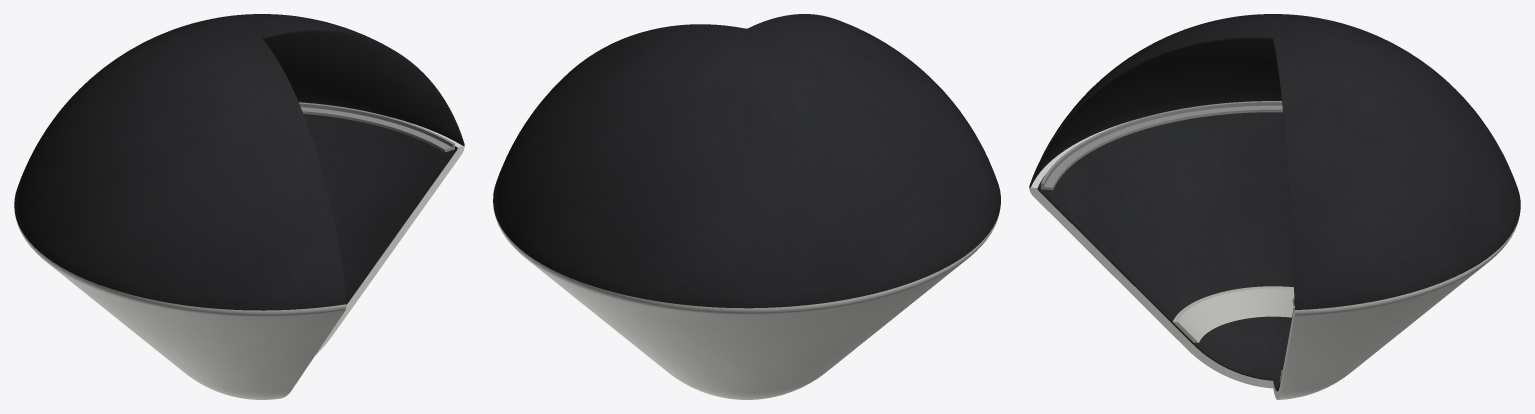
File: ds2-aeroshell.glb
3 views of the same model, side by side, from view 1: azimuth 30°, elevation 25°; view 2: azimuth 150°, elevation 25°; view 3: azimuth 270°, elevation 25° (orthographic). The views are drawn at different scales.
Visible parts, largest first — view 1: AFTSHELL_SiC, HEATSHIELD_SIRCA_SIRCA, HEATSHIELD_SIC_SHELL_SiC, AEROSHELL_JOINT_ring; view 2: AFTSHELL_SiC, HEATSHIELD_SIRCA_SIRCA; view 3: AFTSHELL_SiC, HEATSHIELD_SIC_SHELL_SiC, HEATSHIELD_SIRCA_SIRCA, PROBE_SEAT_ring, AEROSHELL_JOINT_ring.
Part boxes in pixels (x1,y1,x2,y2): AFTSHELL_SiC: [14, 14, 464, 310]; HEATSHIELD_SIRCA_SIRCA: [15, 118, 464, 399]; HEATSHIELD_SIC_SHELL_SiC: [303, 114, 457, 304]; AEROSHELL_JOINT_ring: [299, 102, 454, 152]; AFTSHELL_SiC: [493, 14, 1000, 308]; HEATSHIELD_SIRCA_SIRCA: [493, 209, 1000, 399]; AFTSHELL_SiC: [1029, 14, 1520, 309]; HEATSHIELD_SIC_SHELL_SiC: [1037, 112, 1294, 391]; HEATSHIELD_SIRCA_SIRCA: [1029, 119, 1519, 399]; PROBE_SEAT_ring: [1173, 286, 1294, 381]; AEROSHELL_JOINT_ring: [1041, 101, 1294, 305].
Size of the model in its own units: 0.3493 by 0.2732 by 0.3473.
Materials: 4 (2 with a texture image).
